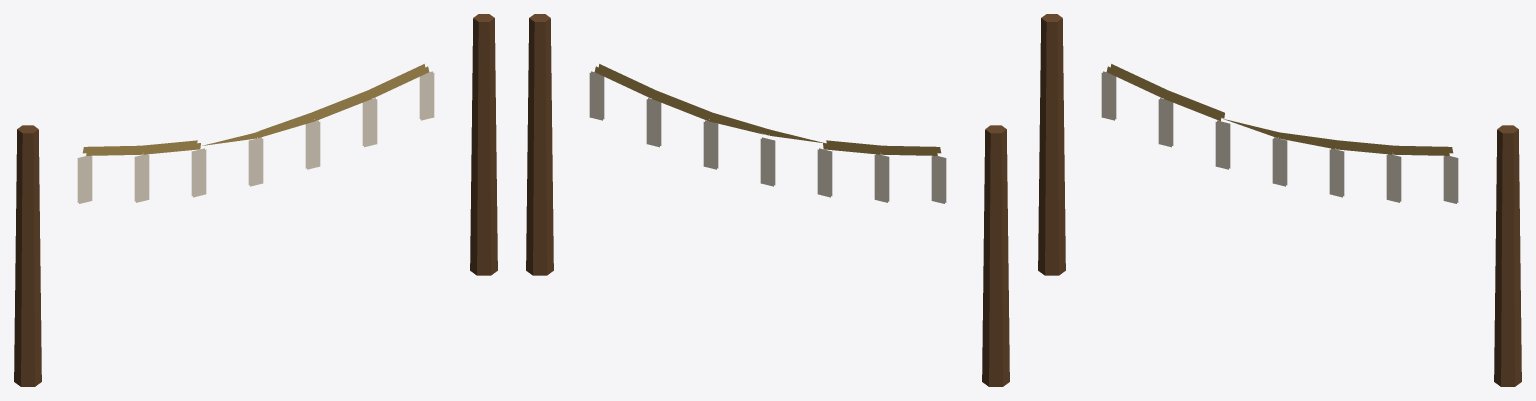
File: prop_geumjul_lod1.glb
The picture shows the model from 3 angles, left to right: view 1: azimuth 30°, elevation 25°; view 2: azimuth 150°, elevation 25°; view 3: azimuth 330°, elevation 25°; orthographic projection.
Visible parts, largest first — view 1: prop_geumjul_lod1; view 2: prop_geumjul_lod1; view 3: prop_geumjul_lod1.
Part boxes in pixels (left/top/right/bottom): prop_geumjul_lod1: left=14, top=14, right=497, bottom=386; prop_geumjul_lod1: left=526, top=14, right=1009, bottom=386; prop_geumjul_lod1: left=1038, top=14, right=1521, bottom=386.
Size of the model in its own units: 3.56 by 1.8 by 0.18.
